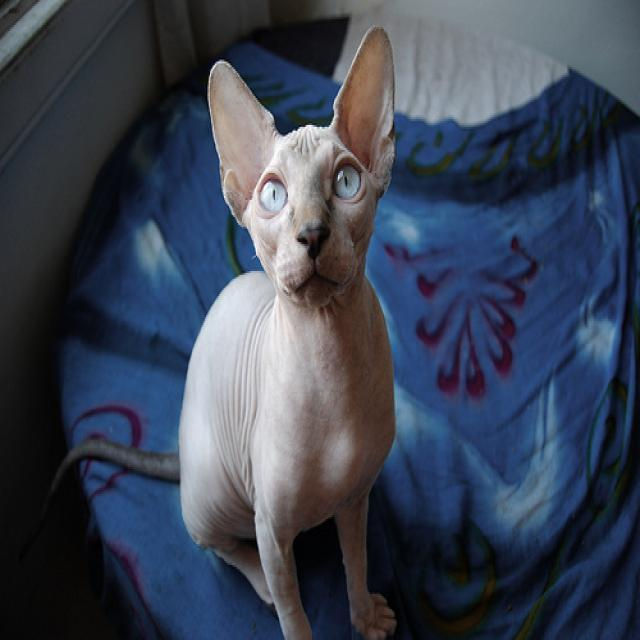Sphynx: (205, 23, 392, 304)
